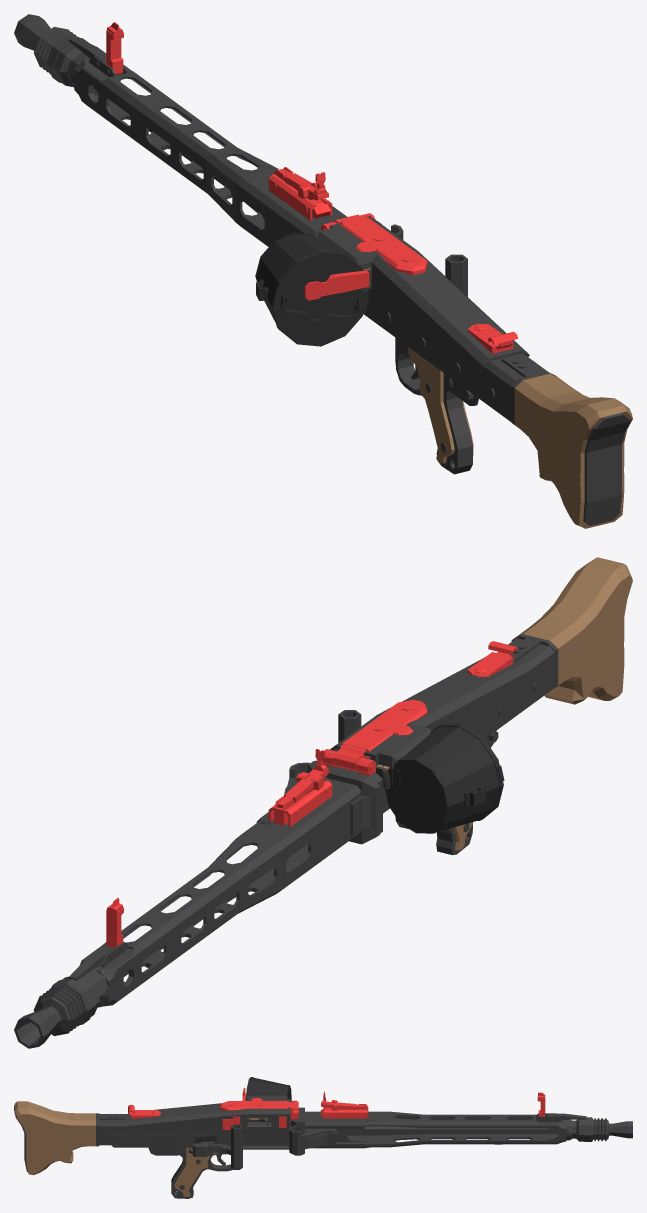
The model's file is lmg_1.glb.
3 views of the same model, one above another, from view 1: azimuth 30°, elevation 25°; view 2: azimuth 150°, elevation 25°; view 3: azimuth 270°, elevation 25° (orthographic). The views are drawn at different scales.
Parts seen in each view (by area): view 1: p3_paint, p141_mag, p139_accent, p37_paint, p36_paint, p140_paint, p0_paint, p75_paint, p82_accent, p39_del, p67_del, p16_del (+2 smaller); view 2: p3_paint, p139_accent, p141_mag, p37_paint, p0_paint, p36_paint, p39_del, p30_paint, p105_del, p16_del, p29_paint; view 3: p3_paint, p139_accent, p37_paint, p36_paint, p2_paint, p0_paint, p11_paint, p86_paint, p141_mag, p82_accent, p20_paint, p75_paint (+13 smaller).
Part boxes in pixels (box(x1,y1,x2,y2)): p3_paint: box(74, 58, 337, 246); p141_mag: box(255, 233, 369, 346); p139_accent: box(514, 373, 632, 528); p37_paint: box(318, 216, 529, 370); p36_paint: box(363, 288, 547, 422); p140_paint: box(583, 413, 630, 525); p0_paint: box(14, 14, 98, 96); p75_paint: box(395, 337, 473, 474); p82_accent: box(408, 347, 473, 463); p39_del: box(340, 217, 427, 275); p67_del: box(304, 270, 369, 300); p16_del: box(268, 174, 316, 220); p3_paint: box(79, 778, 361, 1007); p139_accent: box(515, 557, 632, 704); p141_mag: box(383, 724, 504, 833); p37_paint: box(330, 658, 529, 767); p0_paint: box(14, 967, 108, 1048); p36_paint: box(383, 638, 554, 813); p39_del: box(341, 699, 427, 751); p30_paint: box(308, 760, 382, 844); p105_del: box(467, 641, 518, 676); p16_del: box(284, 780, 332, 826); p29_paint: box(350, 796, 370, 835); p3_paint: box(305, 1111, 566, 1147); p139_accent: box(14, 1101, 95, 1175); p37_paint: box(128, 1095, 290, 1129); p36_paint: box(99, 1112, 290, 1146); p2_paint: box(347, 1126, 560, 1135); p0_paint: box(563, 1117, 632, 1141); p11_paint: box(305, 1117, 371, 1148); p86_paint: box(105, 1134, 214, 1147); p141_mag: box(194, 1077, 291, 1143); p82_accent: box(174, 1147, 218, 1197); p20_paint: box(289, 1126, 338, 1154); p75_paint: box(171, 1147, 232, 1198).
Size of the model in its own units: 0.2137 by 0.2264 by 1.22.
